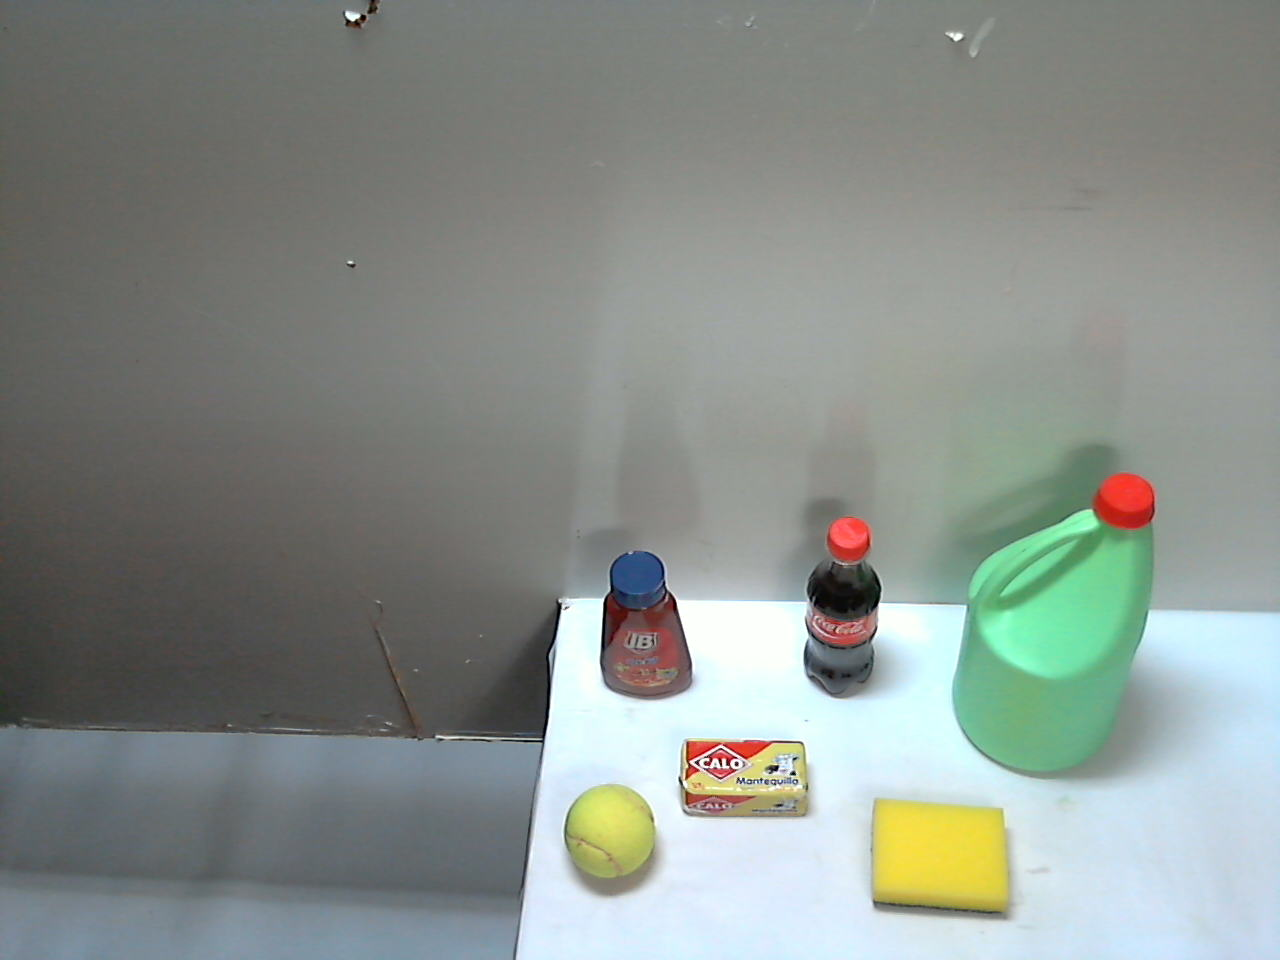balsamo: (621, 510, 729, 738)
greda: (445, 698, 666, 919)
mantequilla: (649, 832, 805, 954)
papas: (751, 500, 895, 789)
pelota: (805, 801, 919, 926)
sarten: (892, 653, 1201, 960)
